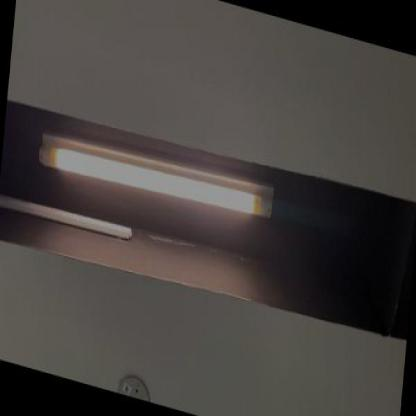light_on: (28, 103, 288, 249)
